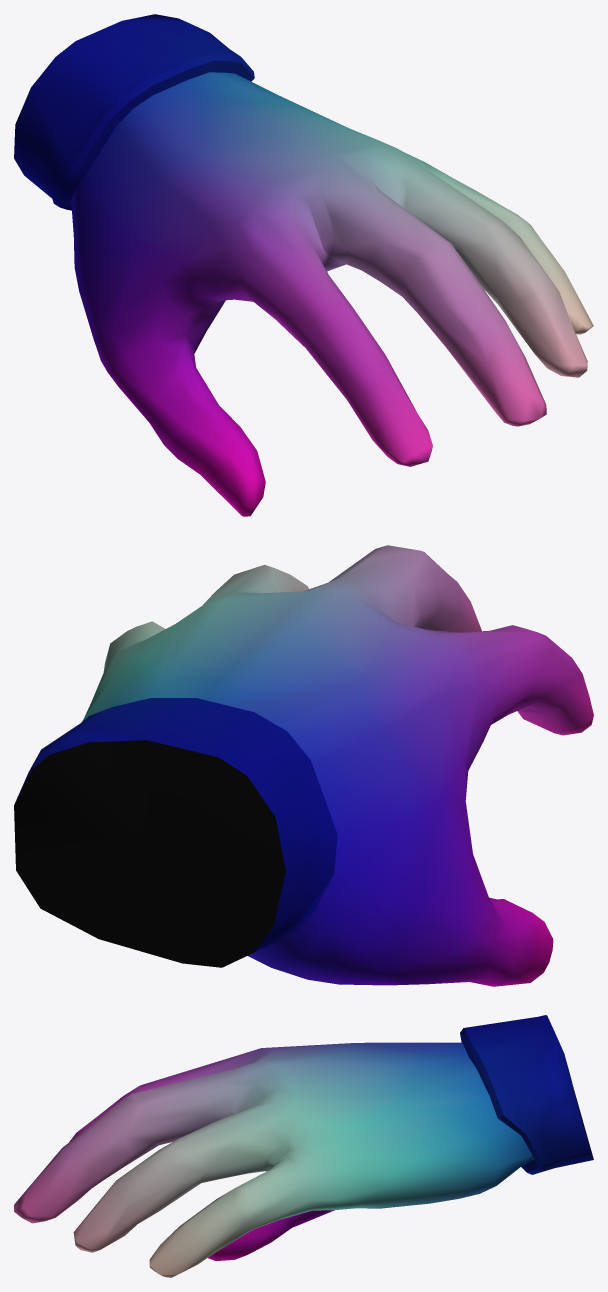
Rendered from WizardLeftHand.fbx.
3 renders of one model, top to bottom at view 1: azimuth 30°, elevation 25°; view 2: azimuth 150°, elevation 25°; view 3: azimuth 270°, elevation 25°, orthographic. The views are drawn at different scales.
Parts seen in each view (by area): view 1: hand, cuff; view 2: hand, cuff; view 3: hand, cuff.
Boxes of the visible parts, left/top/right/bottom form: hand: left=71, top=72, right=593, bottom=516; cuff: left=14, top=14, right=254, bottom=210; hand: left=81, top=545, right=593, bottom=986; cuff: left=14, top=698, right=337, bottom=967; hand: left=14, top=1042, right=534, bottom=1277; cuff: left=460, top=1015, right=593, bottom=1174.
Bounding box in the file's own units: 12.1 × 10.02 × 20.12.
